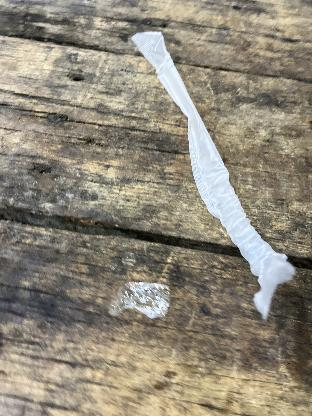Others: (130, 30, 298, 316), (114, 276, 178, 324)
